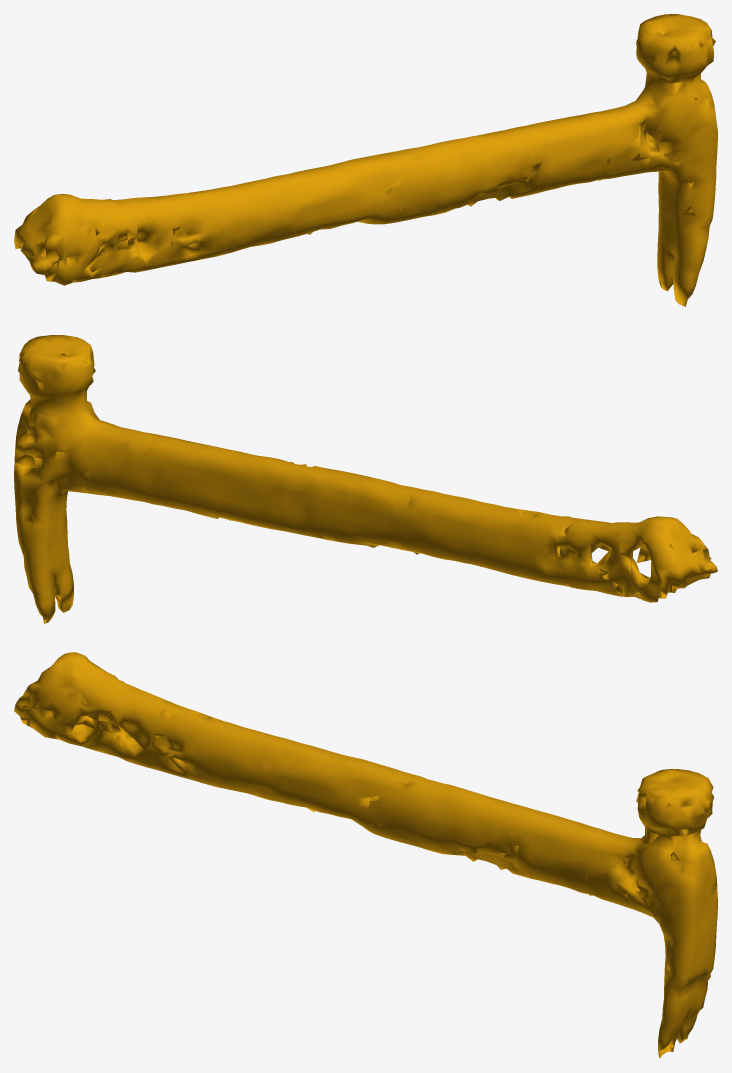
Rendered from model_origin.obj.
The picture shows the model from 3 angles, top to bottom: view 1: azimuth 30°, elevation 25°; view 2: azimuth 150°, elevation 25°; view 3: azimuth 330°, elevation 25°; orthographic projection.
Bounding box in the file's own units: 0.9906 × 0.3716 × 0.0998.
